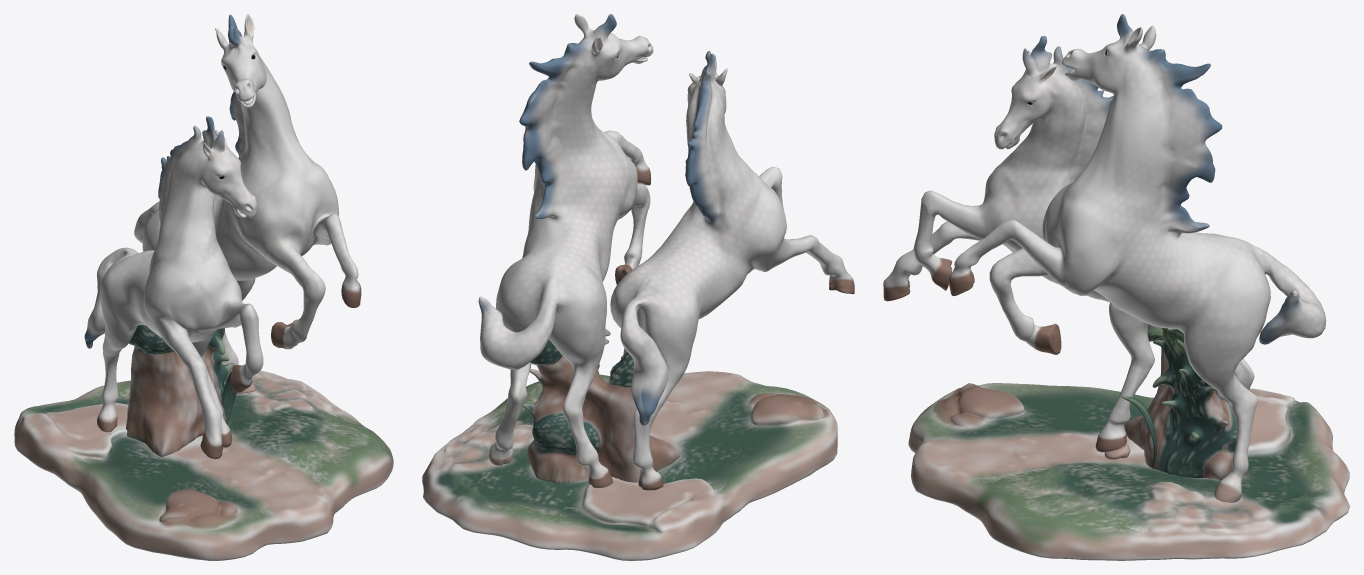
The model's file is horse.glb.
3 views of the same model, side by side, from view 1: azimuth 30°, elevation 25°; view 2: azimuth 150°, elevation 25°; view 3: azimuth 270°, elevation 25° (orthographic). The views are drawn at different scales.
Visible parts, largest first — view 1: low:base:horse qc1.001; view 2: low:base:horse qc1.001; view 3: low:base:horse qc1.001.
Part boxes in pixels (box(x1,y1,x2,y2)): low:base:horse qc1.001: box(14, 14, 393, 560); low:base:horse qc1.001: box(422, 14, 854, 560); low:base:horse qc1.001: box(883, 14, 1349, 560).
Size of the model in its own units: 0.3751 by 0.538 by 0.4754.
1 material, 1 textured.
